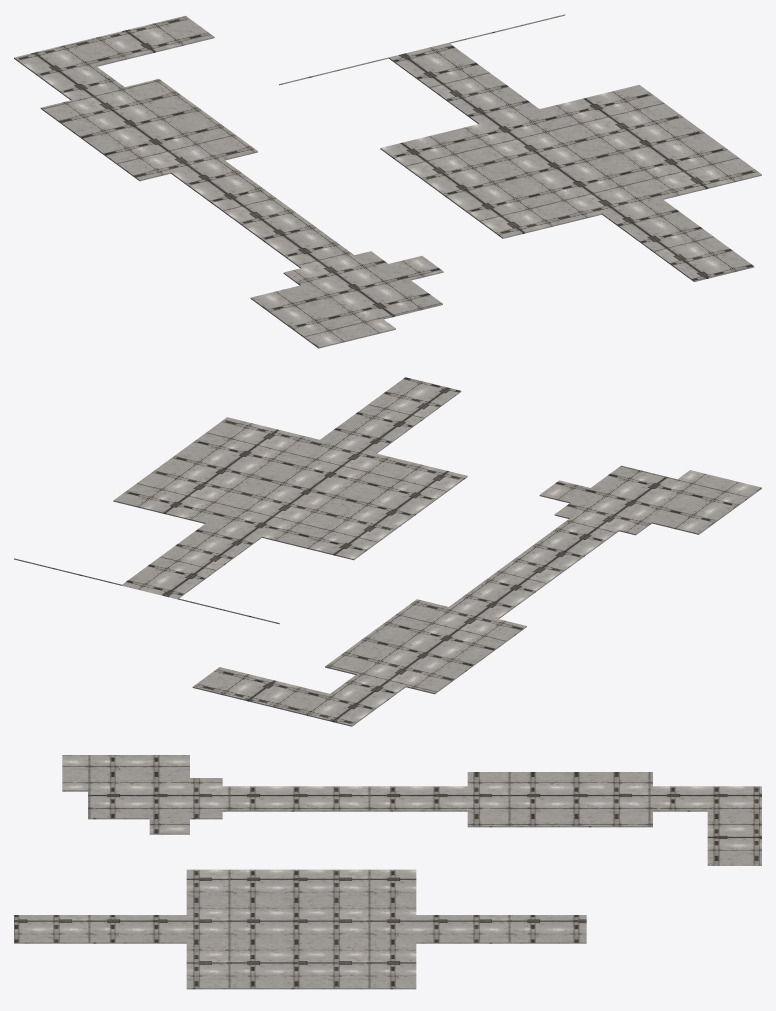
The model's file is piso.obj.
3 renders of one model, top to bottom at view 1: azimuth 30°, elevation 25°; view 2: azimuth 150°, elevation 25°; view 3: azimuth 270°, elevation 25°, orthographic. The views are drawn at different scales.
Parts seen in each view (by area): view 1: Cube.007; view 2: Cube.007; view 3: Cube.007.
Boxes of the visible parts, left/top/right/bottom form: Cube.007: left=14, top=14, right=761, bottom=348; Cube.007: left=14, top=377, right=761, bottom=726; Cube.007: left=14, top=755, right=761, bottom=989.
Size of the model in its own units: 156 by 0.36 by 205.
